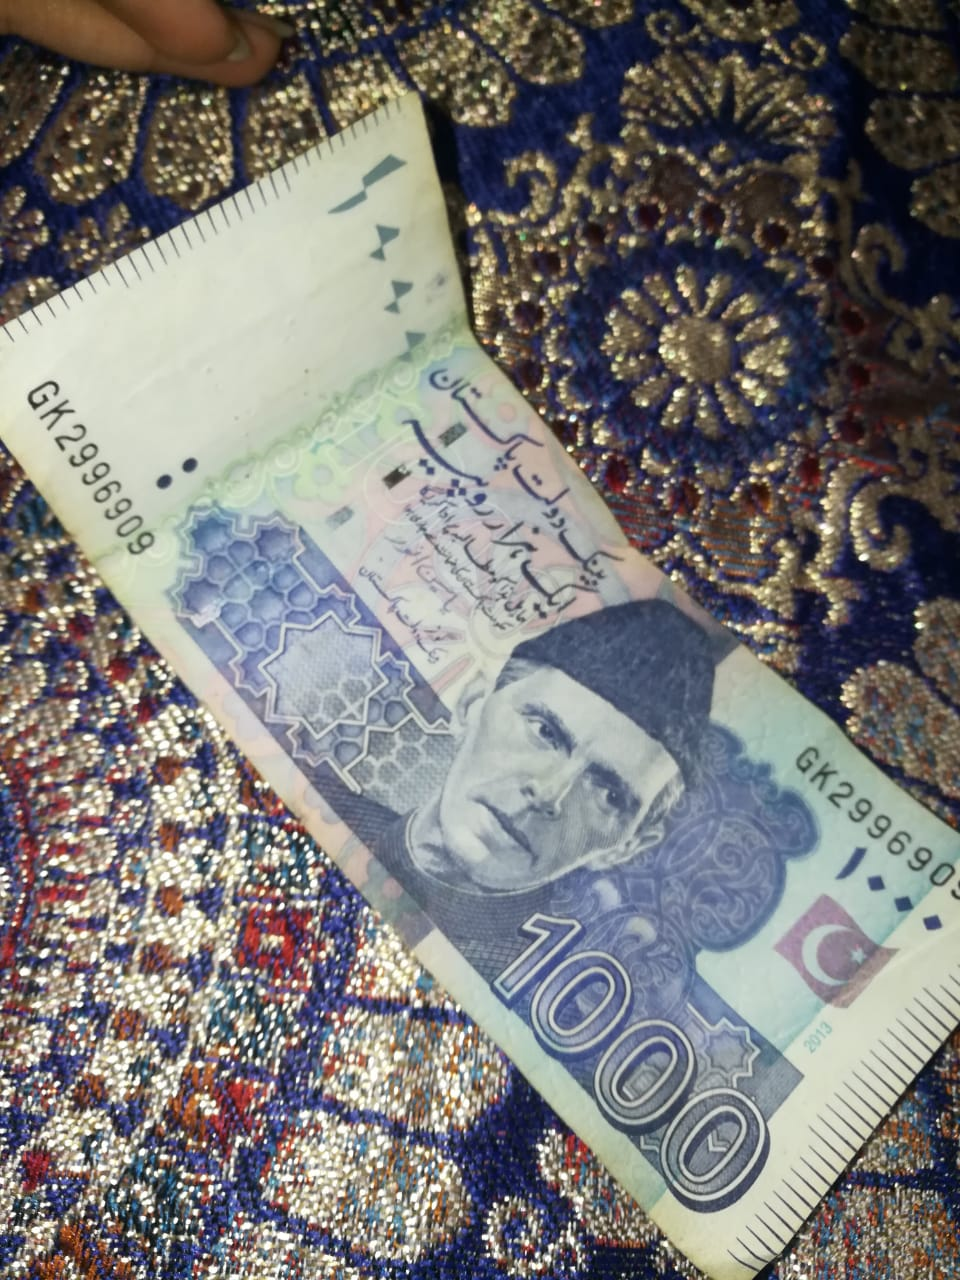1000 rupee: (25, 139, 960, 1258)
